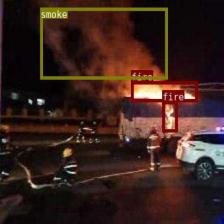fire: (130, 81, 197, 101), (162, 101, 177, 132)
smoke: (40, 7, 167, 79)
